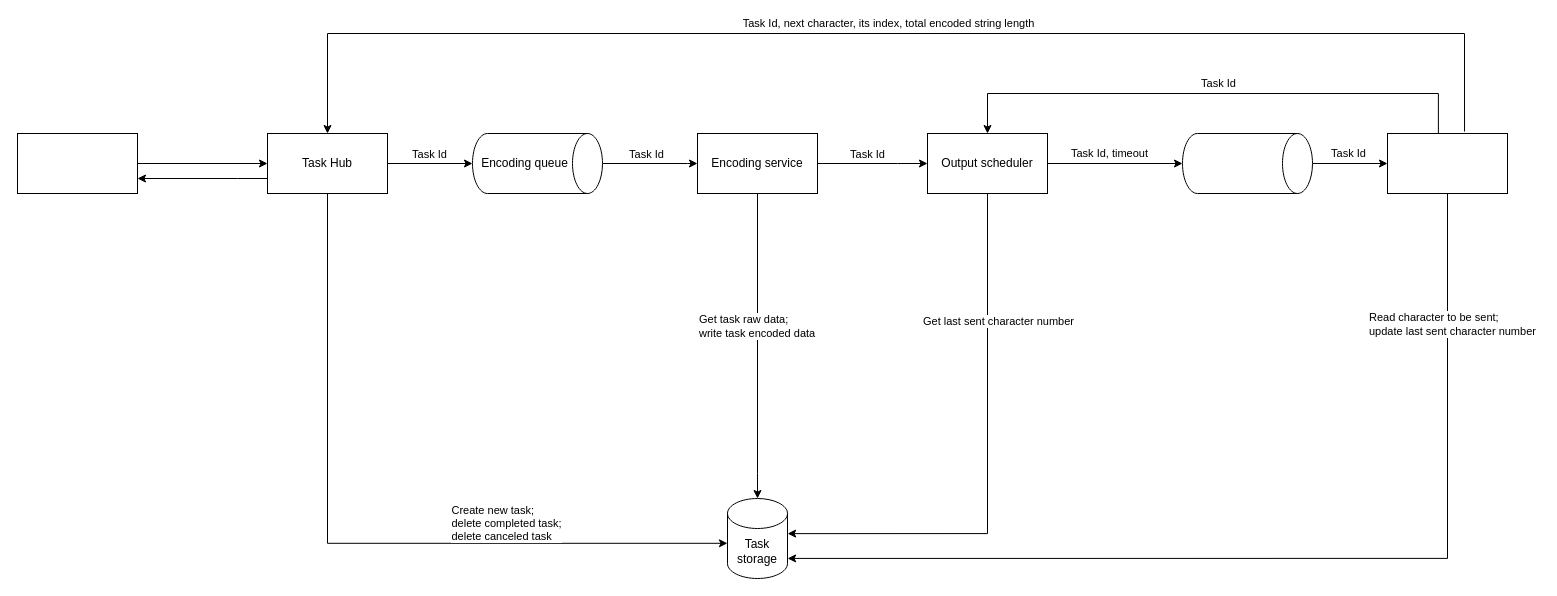
This 1557x596 diagram has some shape labels left out. The centre of each missing label's shape, as x and y in pixels:
Front-end views: [77,163]
Output queue (supports scheduling): [1247,163]
Output service: [1447,163]
